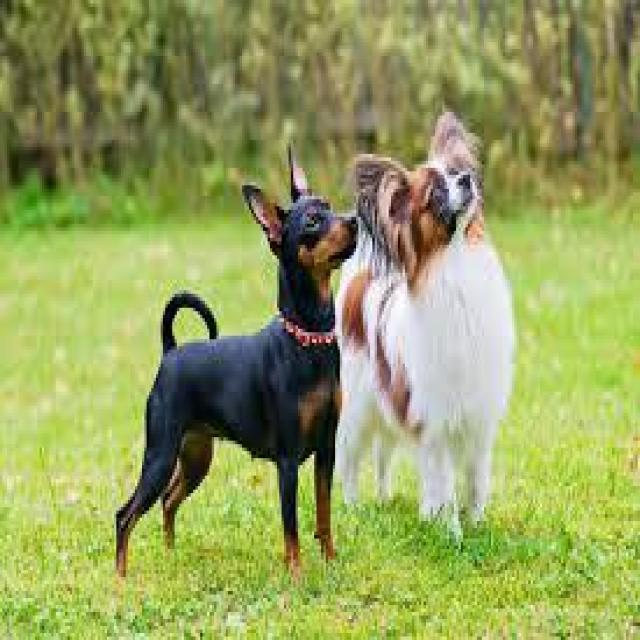Dog: (349, 103, 490, 275), (238, 137, 364, 280)
